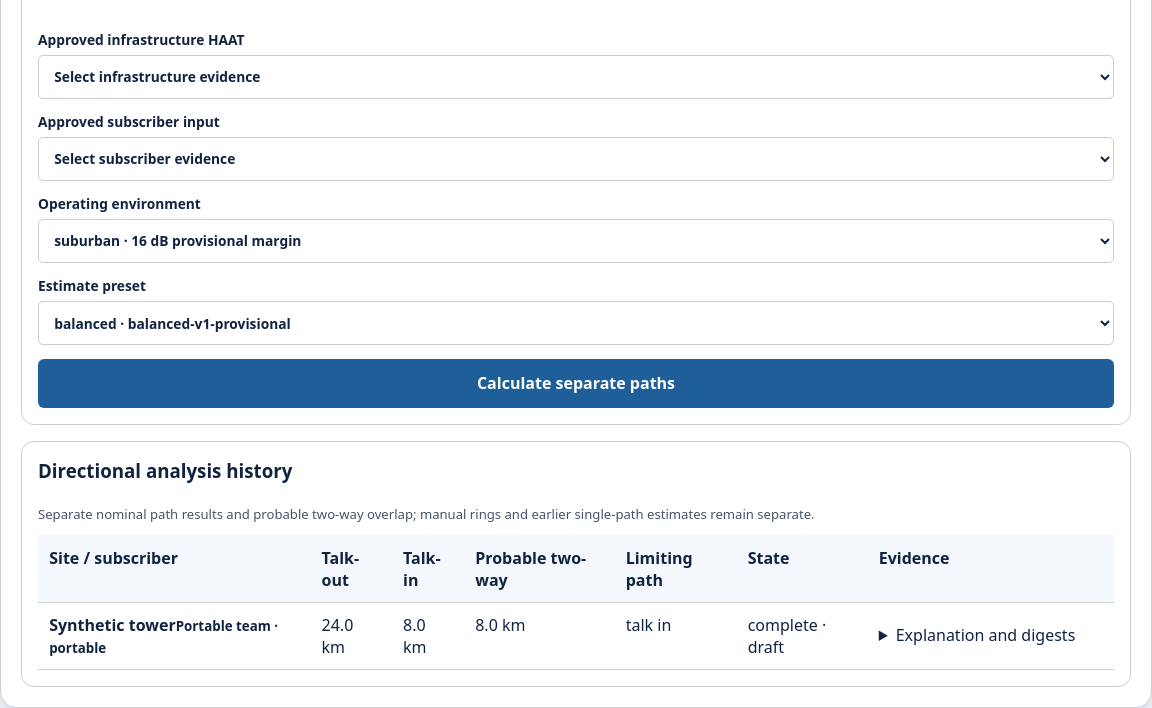
Scenario: shows separate directional paths, limiting path, and evidence
(page scrolled)
Expected: the text "24.0 km" is shown, 310,602 -> 392,670
Expected: the text "8.0 km" is shown 2 times, 392,602 -> 464,670; 464,602 -> 614,670
Click the heading "Explanation and digests".
click(986, 635)  # box 896,624 -> 1075,646
(page scrolled)
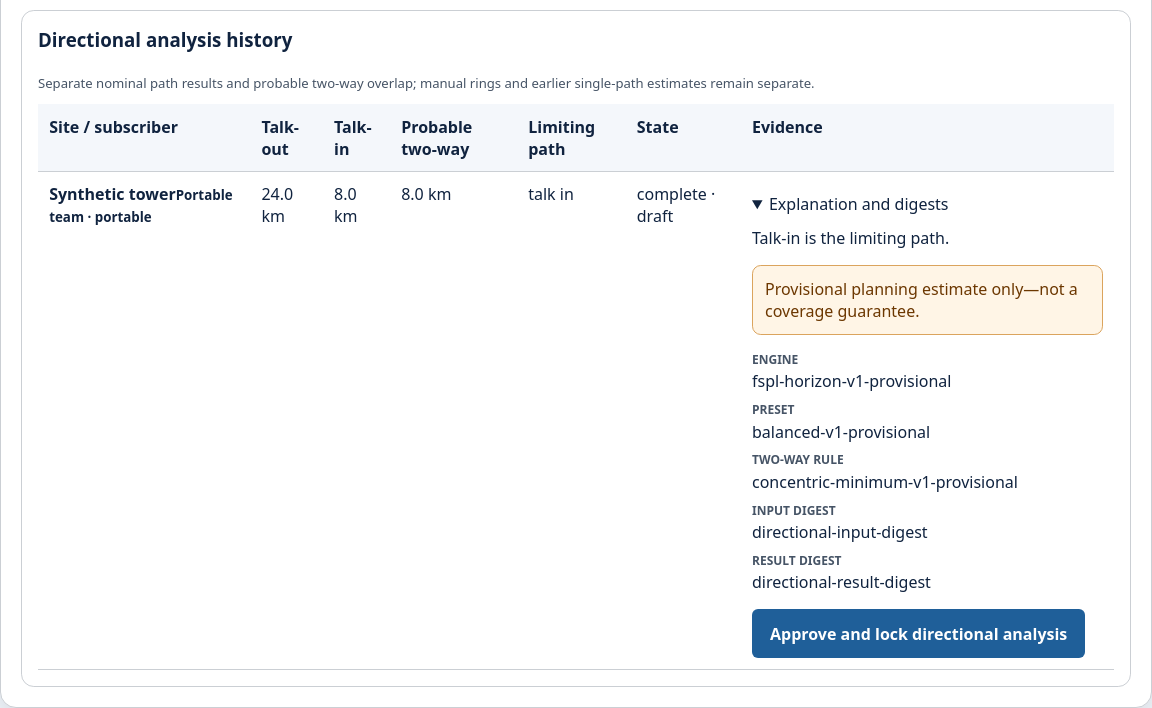
Expected: the text "directional-input-digest" is shown, 752,521 -> 928,543
Expected: the text "directional-result-digest" is shown, 752,571 -> 931,593
